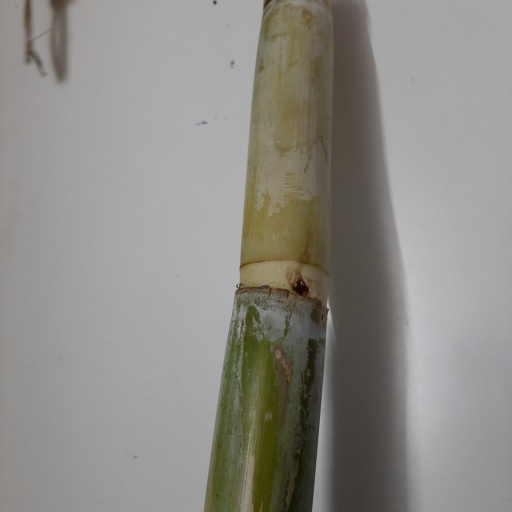Damage_Bud: (290, 273, 309, 297)
